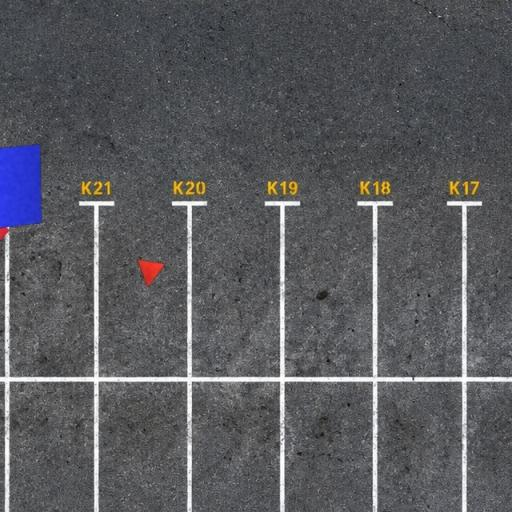BLUE_SQUARE: (0, 143, 42, 234)
